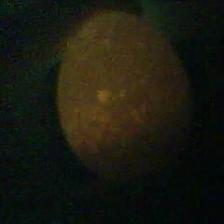fertile: (55, 7, 196, 191)
